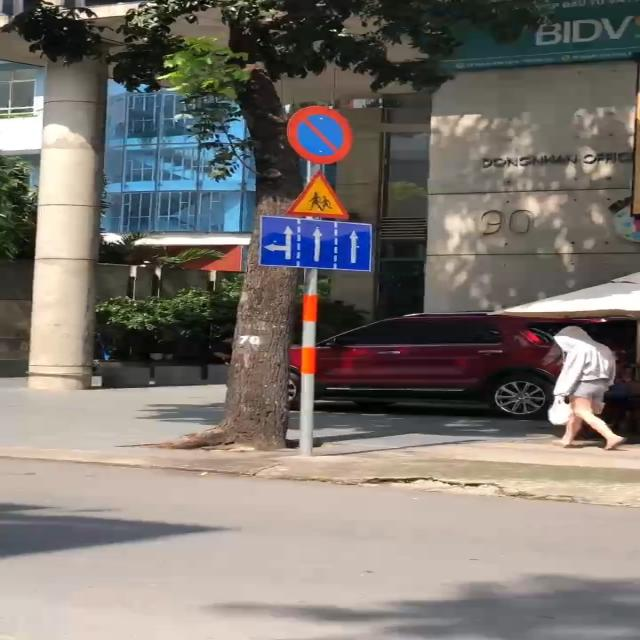Bien bao cam do xe: (283, 104, 365, 167)
Bien bao tre em: (281, 167, 363, 220)
